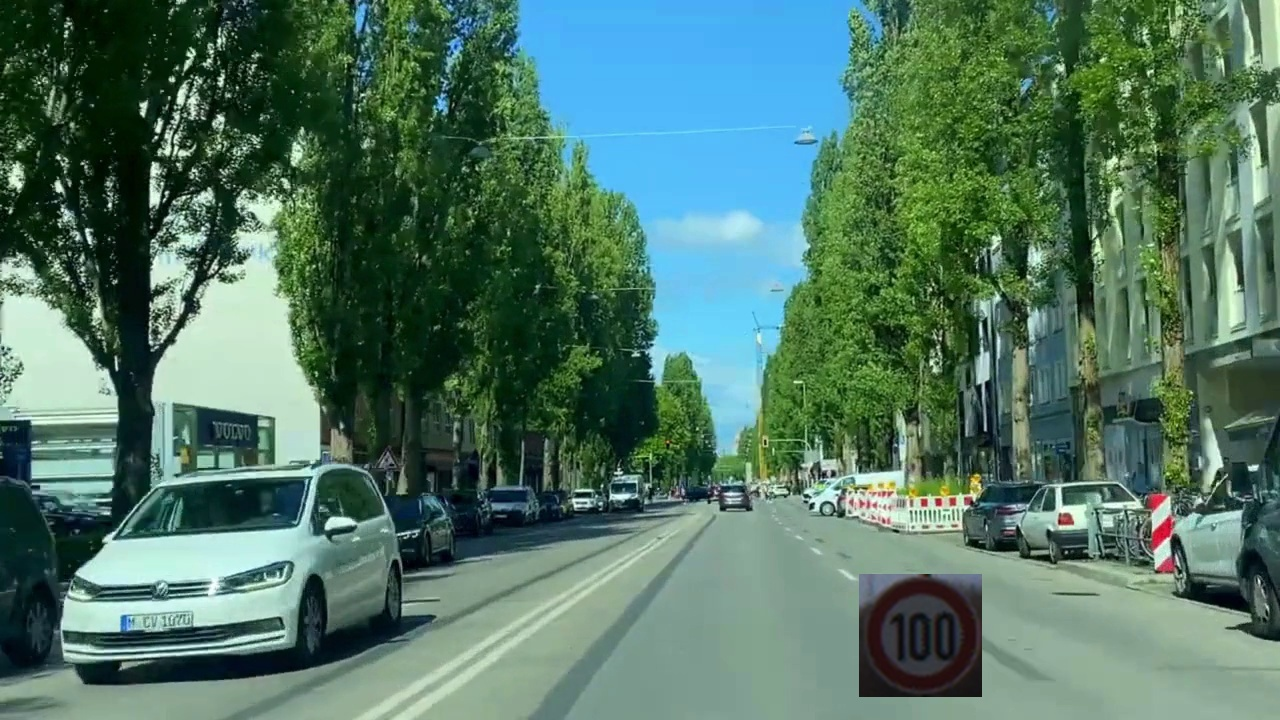Speed 100: (859, 574, 982, 697)
